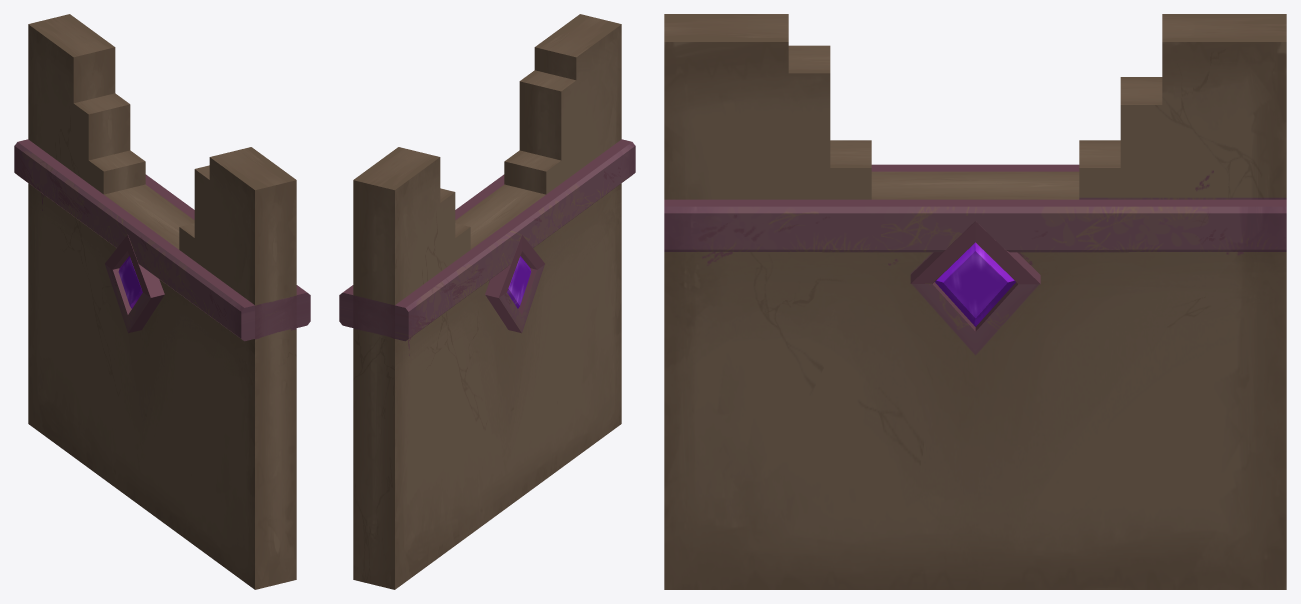
File: Gates_Crumbled_ver2.fbx
3 views of the same model, side by side, from view 1: azimuth 30°, elevation 25°; view 2: azimuth 150°, elevation 25°; view 3: azimuth 270°, elevation 25° (orthographic). The views are drawn at different scales.
Visible parts, largest first — view 1: Gate_1; view 2: Gate_1; view 3: Gate_1.
Part boxes in pixels (left/top/right/bottom): Gate_1: left=14, top=14, right=310, bottom=589; Gate_1: left=339, top=14, right=635, bottom=589; Gate_1: left=664, top=14, right=1286, bottom=589.
Bounding box in the file's own units: 3.33 × 18.33 × 18.86.
Materials: 1 (1 with a texture image).
